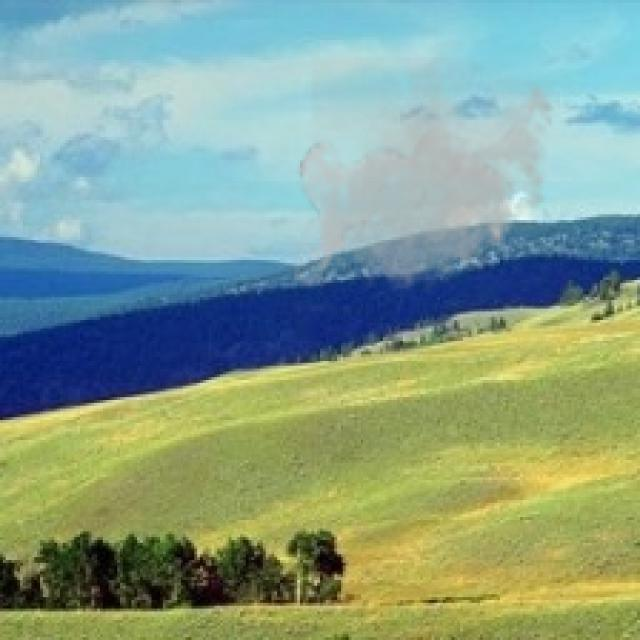Smoke: (294, 57, 563, 300)
